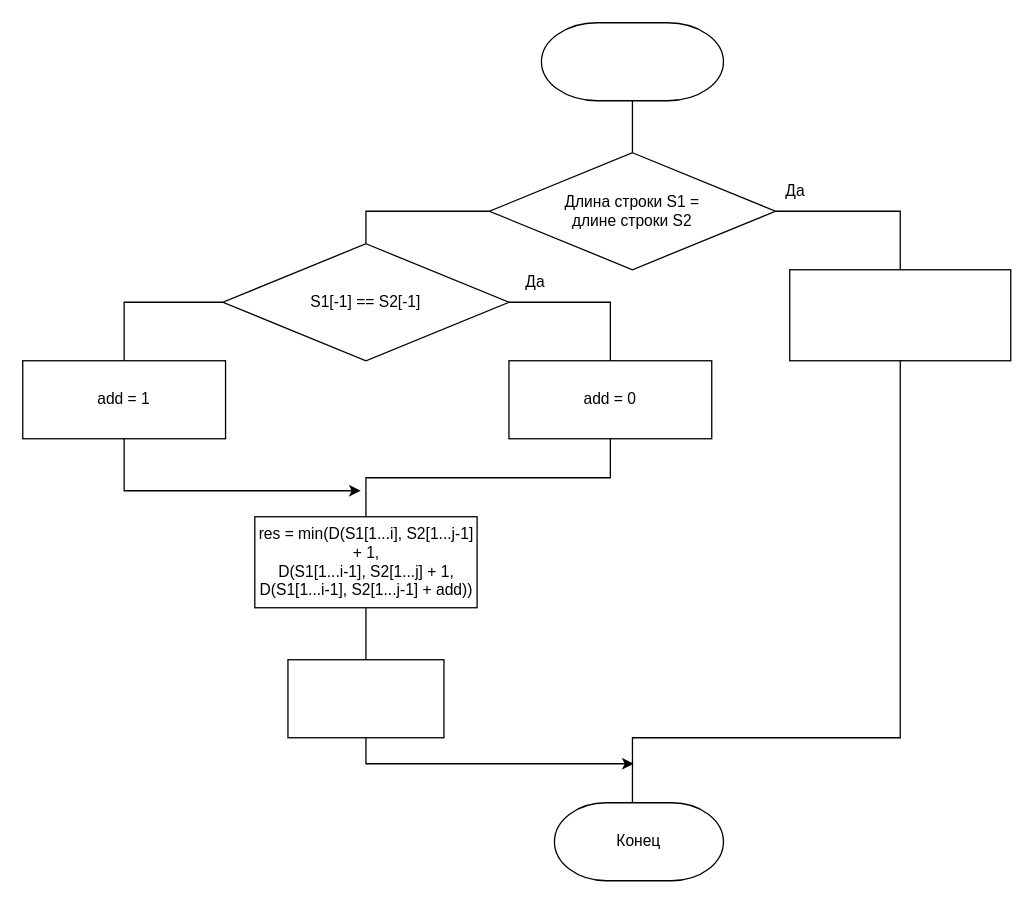
Image size: 1034x903. Some labels were removed from this diagram. Each missing label, with the centre of its shape:
Вернуть res: point (365, 698)
Вернуть значение abs(len(S1) - len(S2)): point (899, 314)
Начало: point (631, 61)
